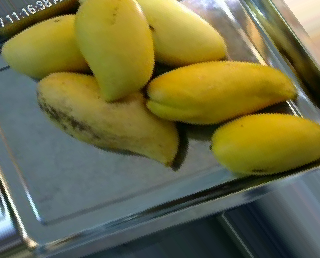Mango: (36, 73, 179, 165), (146, 58, 297, 120), (74, 0, 153, 99), (1, 14, 110, 78), (128, 0, 228, 64), (212, 115, 320, 174)
